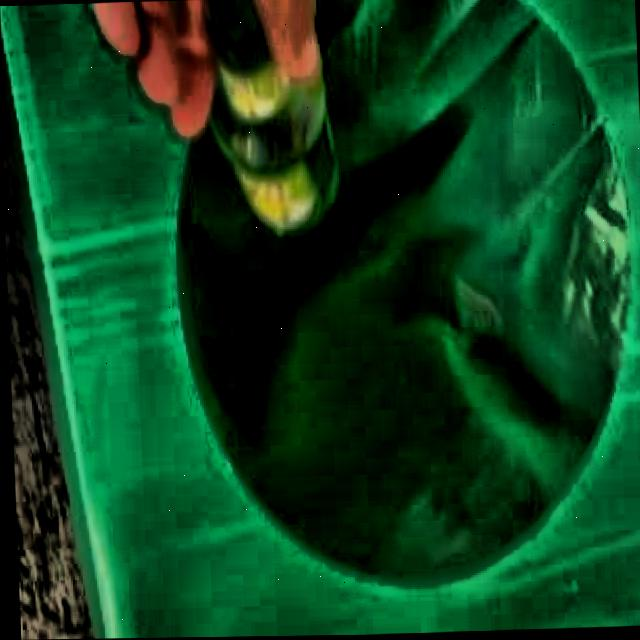glass: (205, 0, 333, 232)
